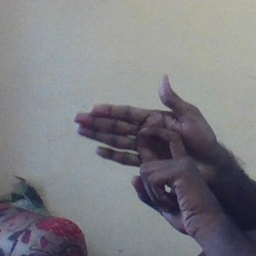R: (70, 73, 219, 201)
